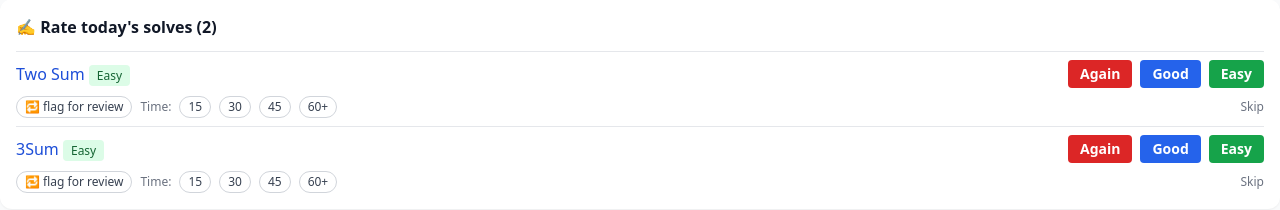
it: RateSolveCard › one click on Good saves confidence and the review flag
The image size is (1280, 210).
Click the button with aria-label "Good: Two Sum" at [1171, 74], box [1140,60,1201,88]
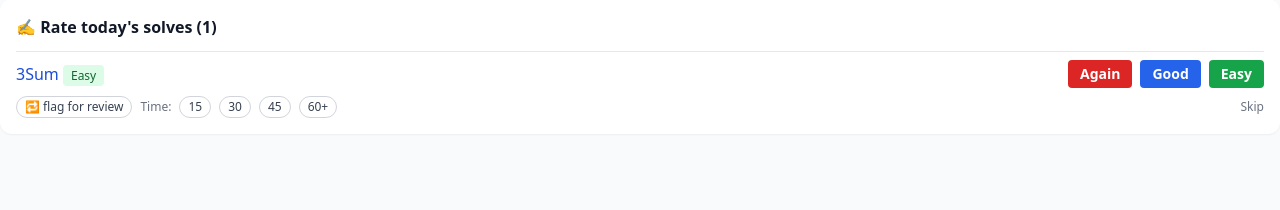
Now the link "Two Sum" is gone
Now the heading "✍️ Rate today's solves (1)" is shown, box [16,16,217,38]
